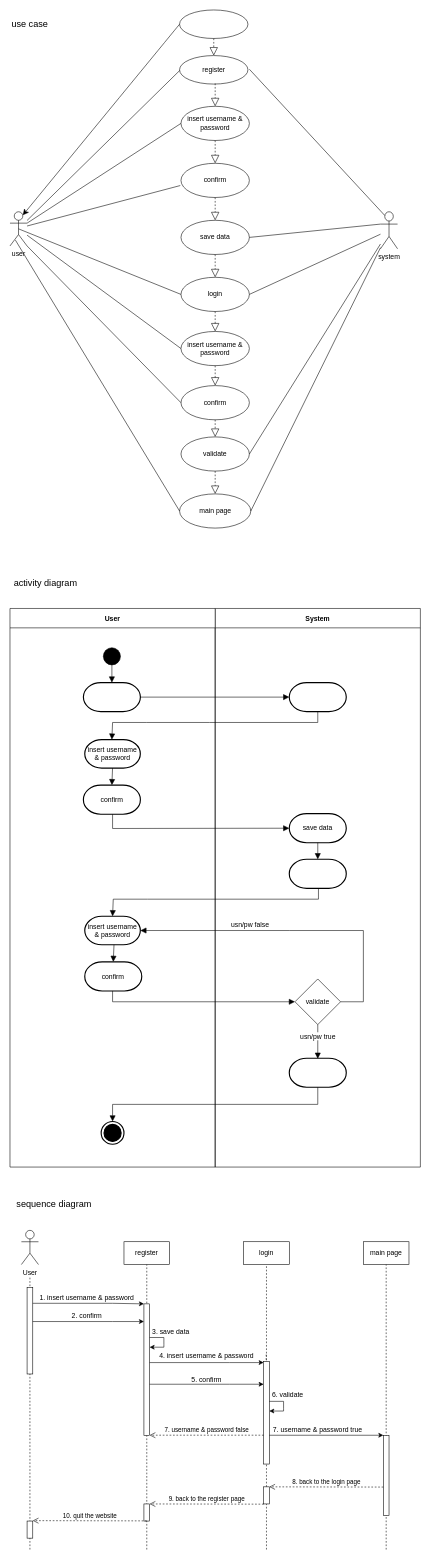
The diagram is 430 pixels wide and 1560 high, and some of its shapes have lost their labels. Each missing label, with the centre of its shape:
"open web" goes at (x=213, y=23).
"open website" goes at (x=112, y=697).
"show login page" goes at (x=317, y=873).
"show main page" goes at (x=317, y=1072).
"show register page" goes at (x=317, y=697).
